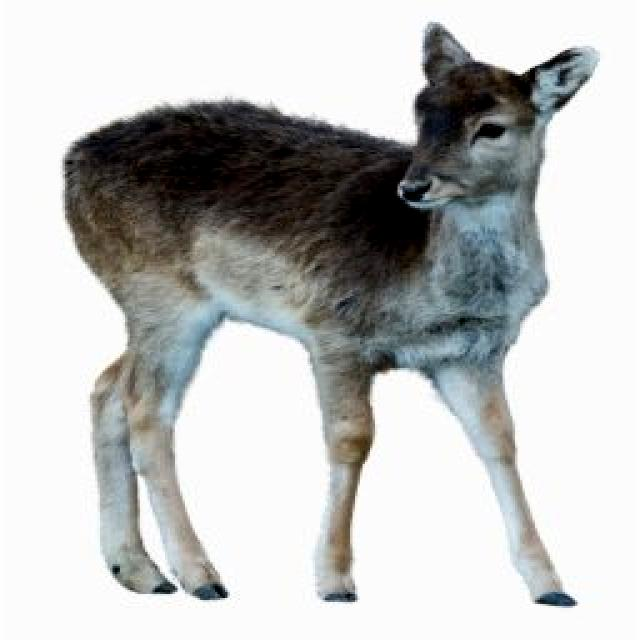deer: (370, 9, 632, 237)
